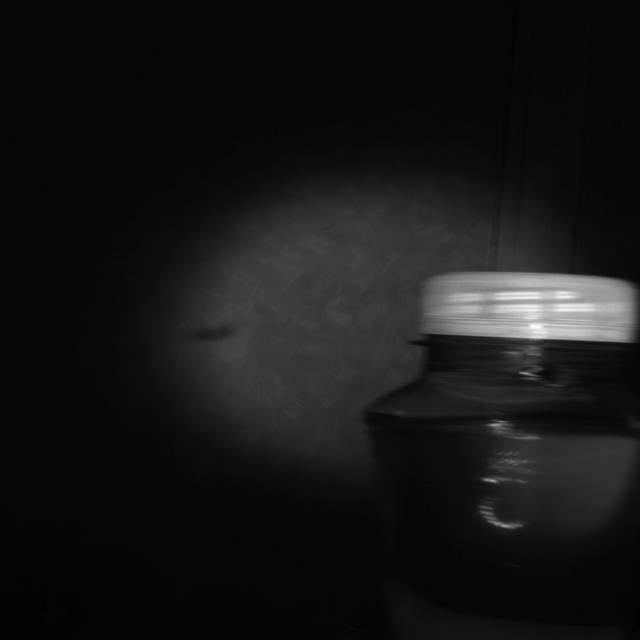Good: (418, 272, 640, 343)
